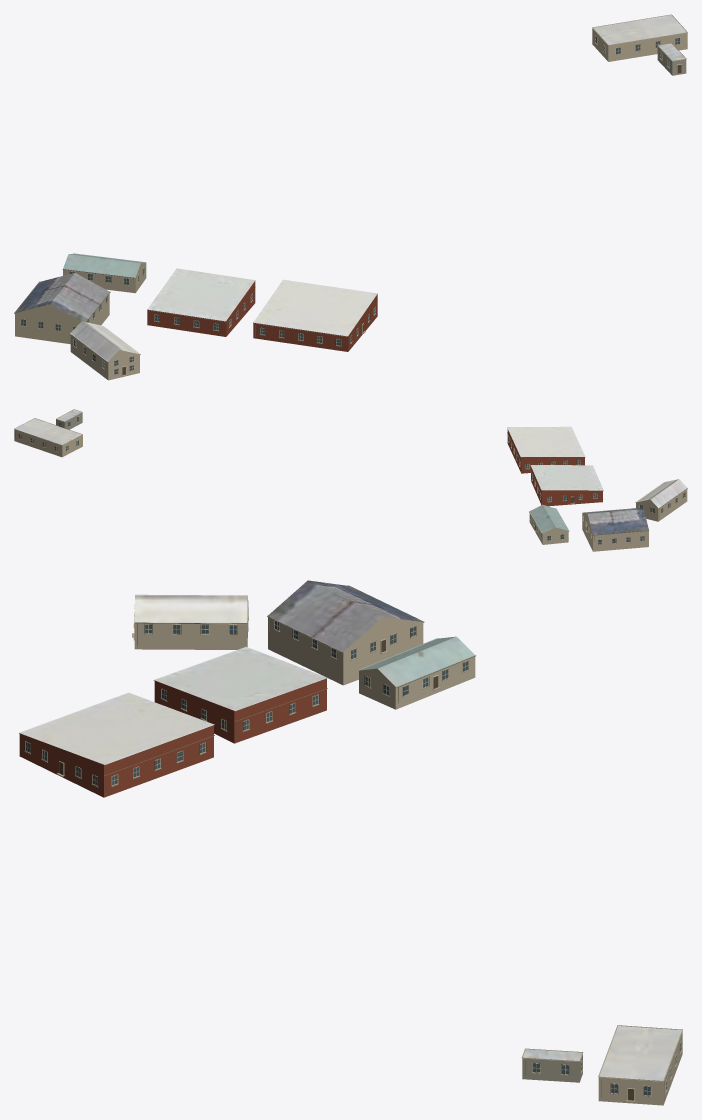
3 views of the same model, one above another, from view 1: azimuth 30°, elevation 25°; view 2: azimuth 150°, elevation 25°; view 3: azimuth 270°, elevation 25° (orthographic). The views are drawn at different scales.
Parts seen in each view (by area): view 1: -7_1_271332435_0, -7_1_271332438_1; view 2: -7_1_271332435_0, -7_1_271332438_1; view 3: -7_1_271332435_0, -7_1_271332438_1, -7_1_-10075371880_64.
Boxes of the visible parts, box(x1,y1,x2,y2) form: -7_1_271332435_0: box(14, 14, 687, 376); -7_1_271332438_1: box(15, 28, 687, 380); -7_1_271332435_0: box(14, 409, 687, 544); -7_1_271332438_1: box(14, 429, 687, 551); -7_1_271332435_0: box(19, 580, 682, 1102); -7_1_271332438_1: box(134, 600, 682, 1105); -7_1_-10075371880_64: box(522, 1054, 582, 1082).
Bounding box in the file's own units: 219 × 15.15 × 113.
12 materials, 1 textured.
